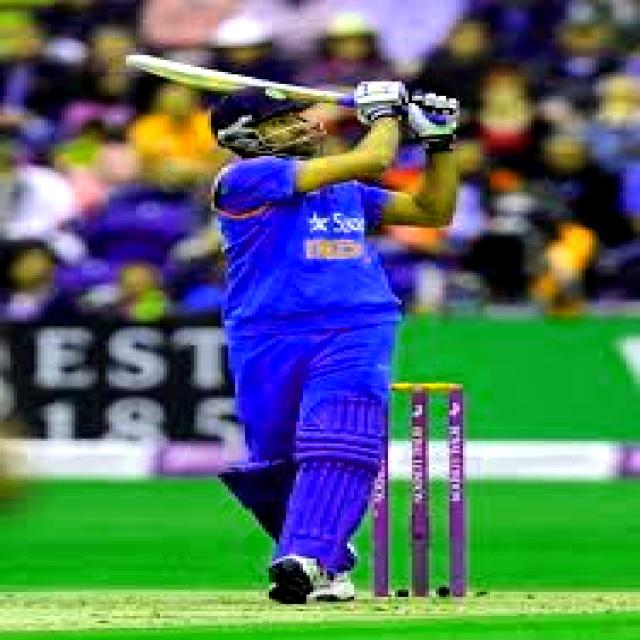toe: (121, 53, 144, 73)
